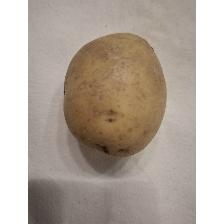Kartoffel: (61, 29, 169, 161)
